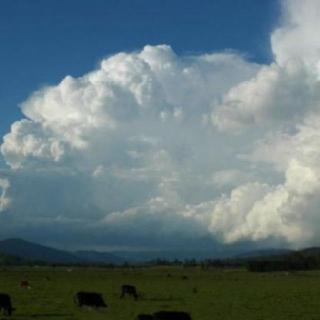Cumulonimbus: (0, 0, 320, 238)
